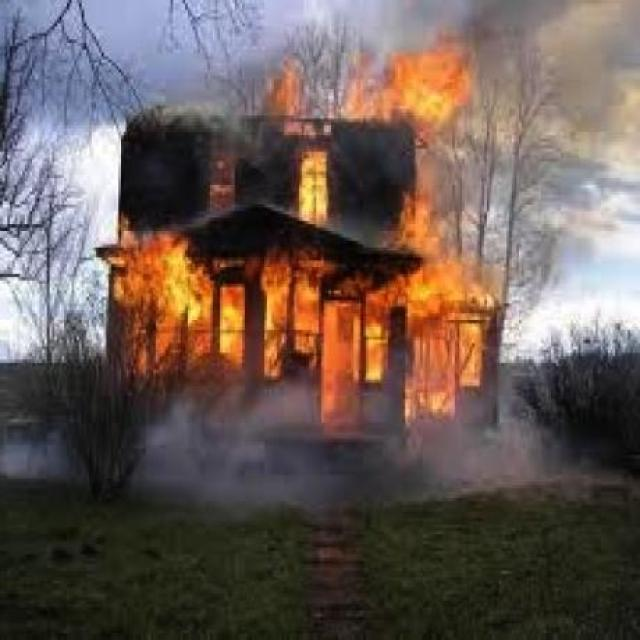Fire: (93, 214, 486, 436), (338, 34, 476, 128), (295, 152, 353, 248), (391, 190, 452, 254), (259, 70, 312, 130)
Smoke: (461, 3, 640, 146), (140, 394, 320, 524), (410, 394, 552, 487), (5, 419, 90, 497)
